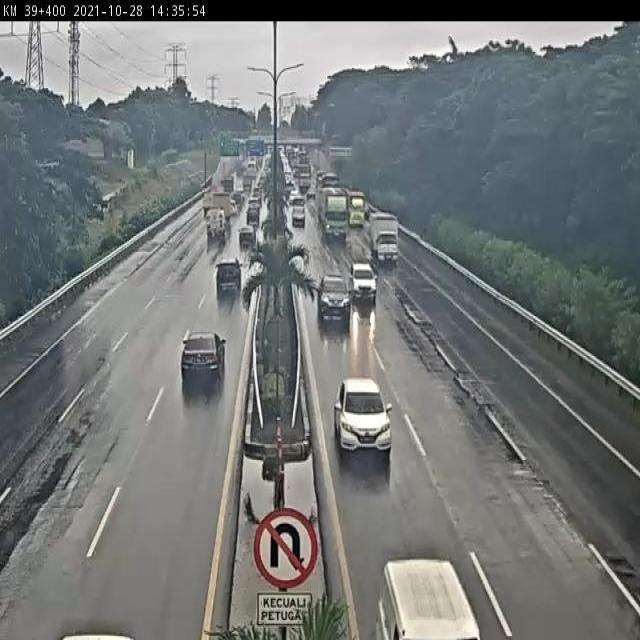Car: (334, 373, 398, 464), (181, 327, 227, 386), (318, 272, 349, 328), (348, 262, 378, 303), (214, 255, 243, 294), (291, 192, 307, 231), (239, 224, 257, 246), (248, 206, 260, 226)
Truck: (316, 178, 349, 241), (369, 212, 401, 264), (350, 193, 365, 228)
